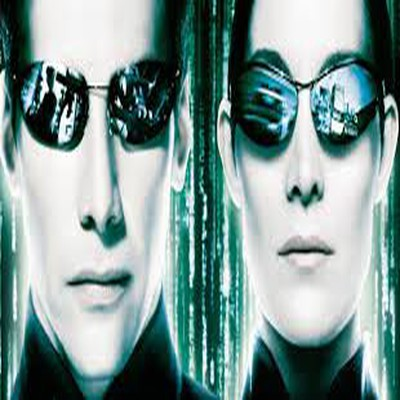eywear: (24, 40, 218, 171), (227, 51, 378, 167)
